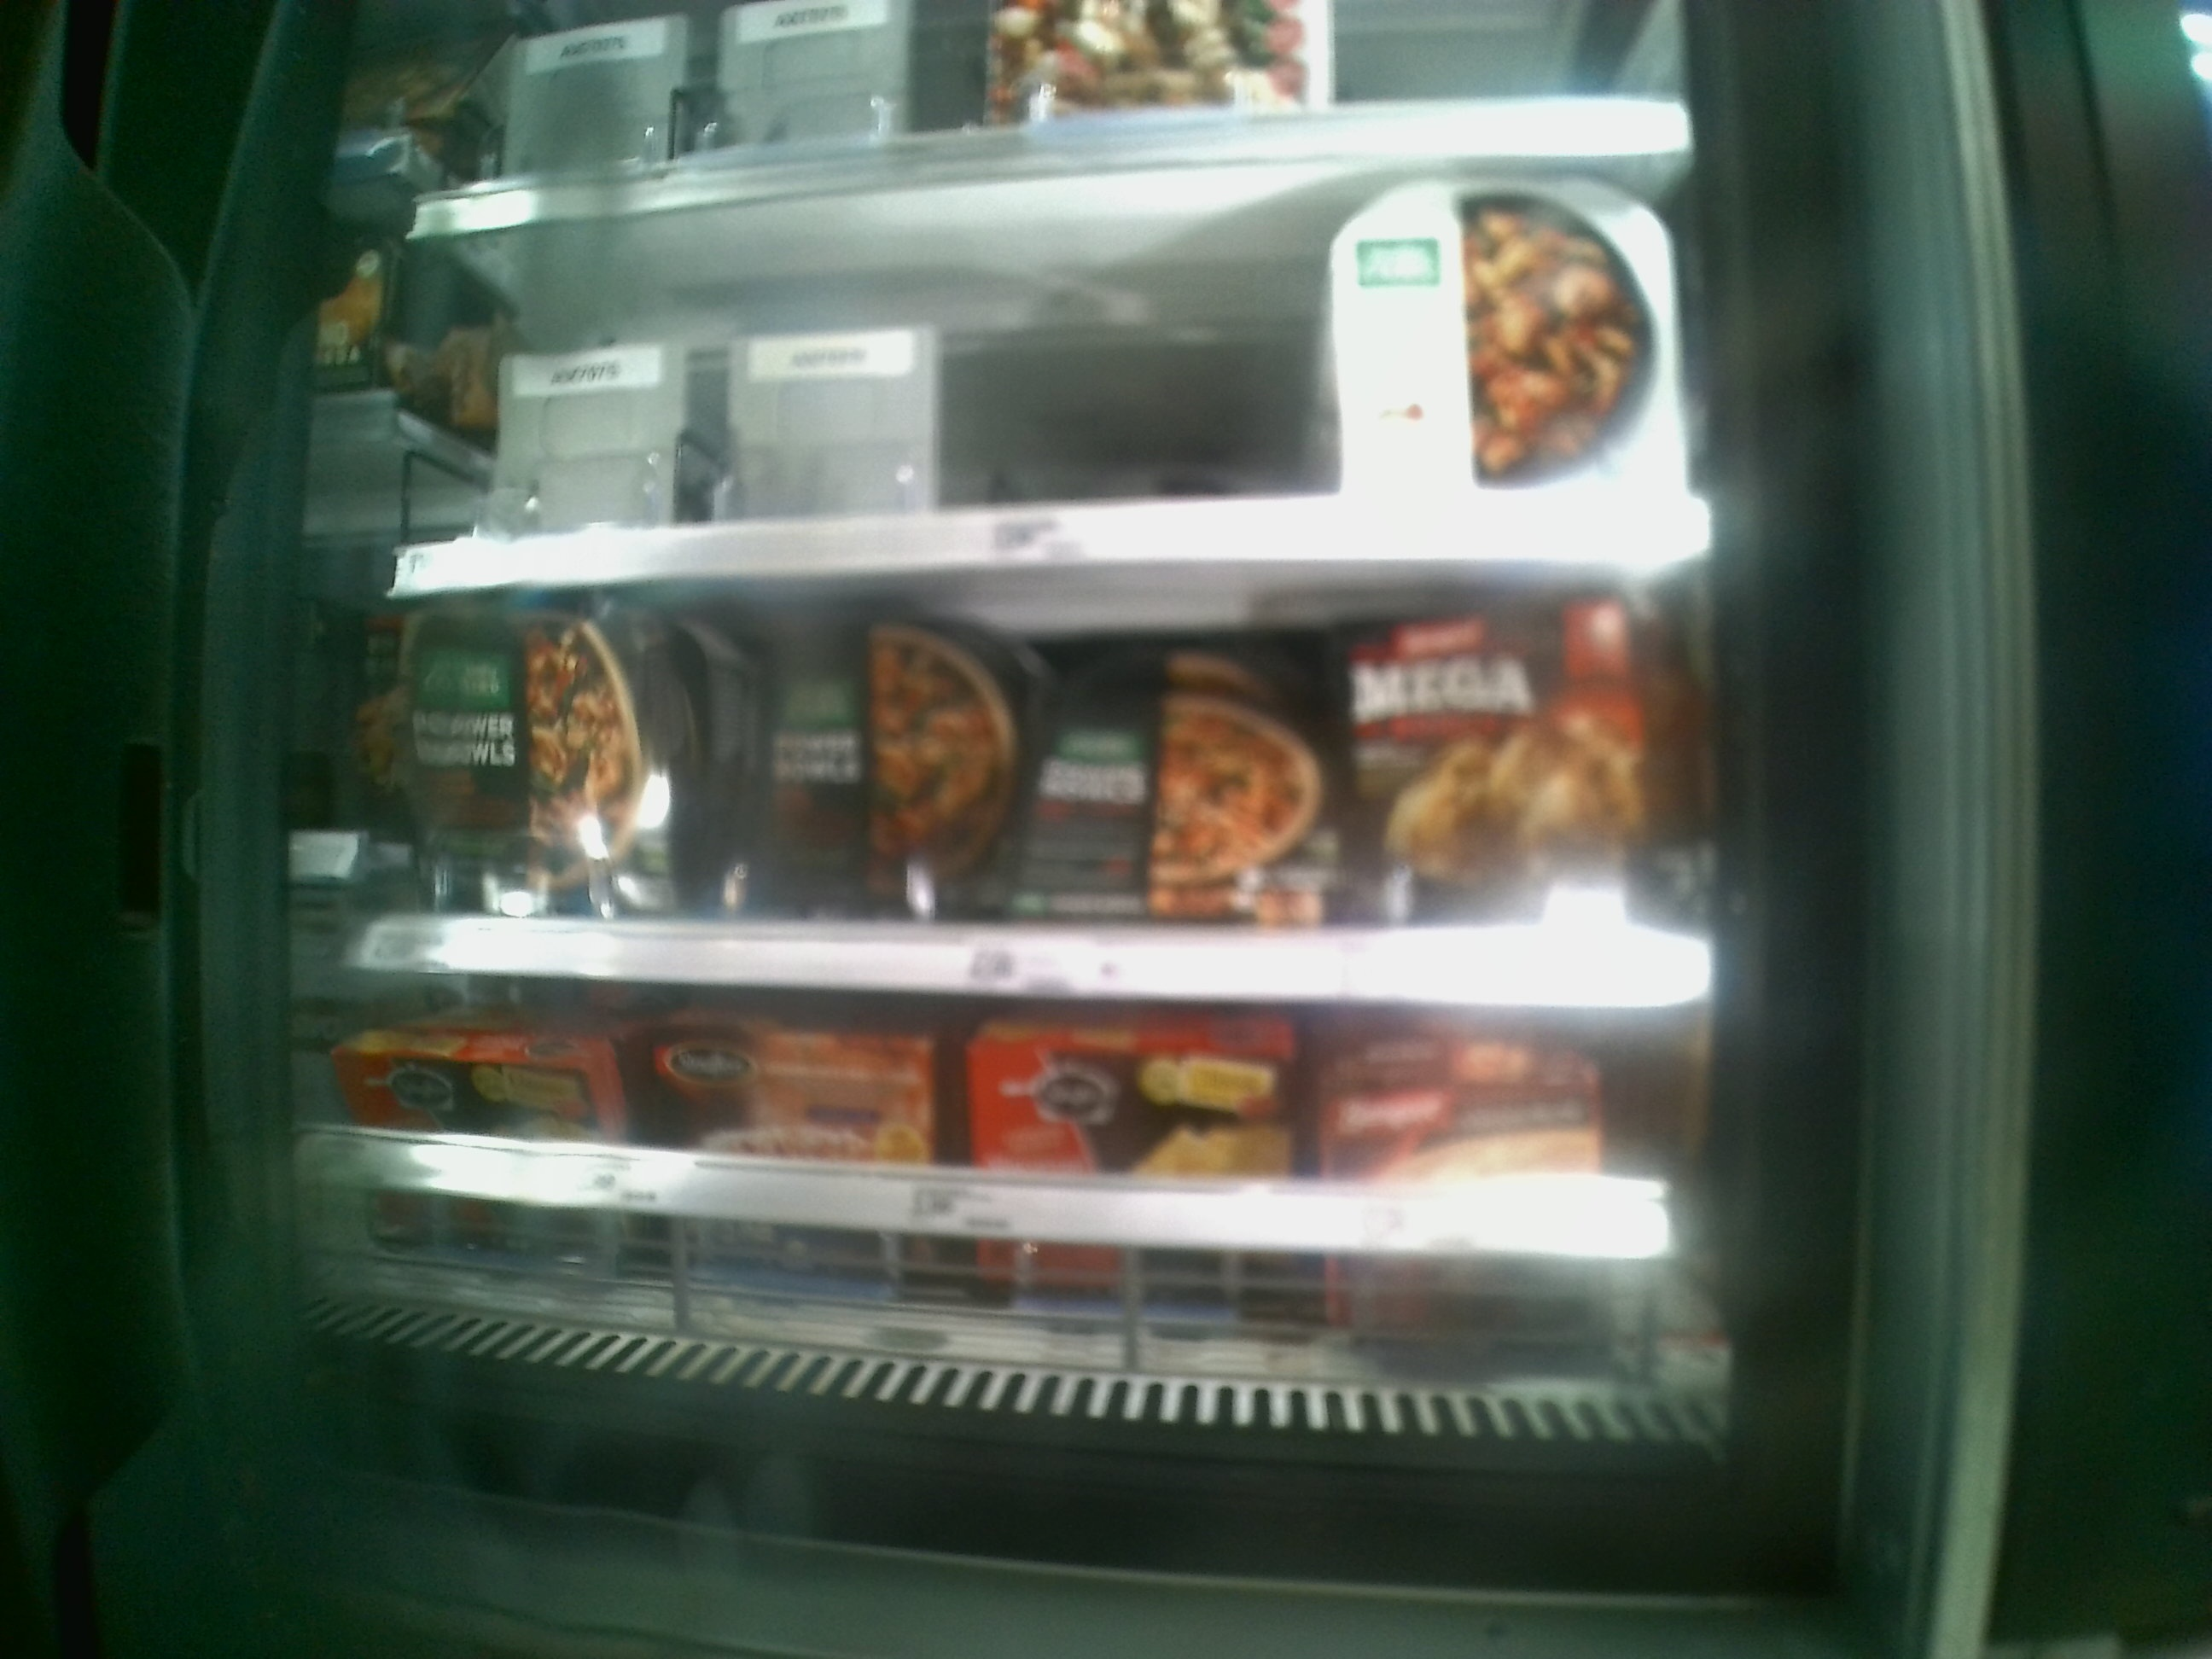Shelf: (387, 572, 1719, 1004), (388, 162, 1702, 592), (303, 983, 1709, 1356)
